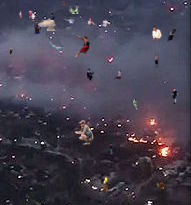Human: (69, 35, 92, 58), (96, 176, 125, 194), (29, 13, 57, 31), (74, 120, 94, 145), (87, 68, 121, 82), (67, 16, 110, 27), (13, 6, 37, 21), (54, 69, 86, 79), (152, 26, 162, 46), (48, 41, 64, 50), (171, 88, 179, 104), (167, 29, 176, 42), (153, 54, 160, 68), (69, 6, 80, 14), (34, 22, 41, 34), (133, 98, 138, 111), (156, 182, 165, 189), (109, 144, 113, 154), (9, 48, 13, 57), (154, 130, 157, 137), (62, 1, 65, 6), (42, 184, 44, 186), (66, 4, 67, 8), (131, 131, 132, 135), (156, 201, 157, 205), (153, 201, 154, 204)
